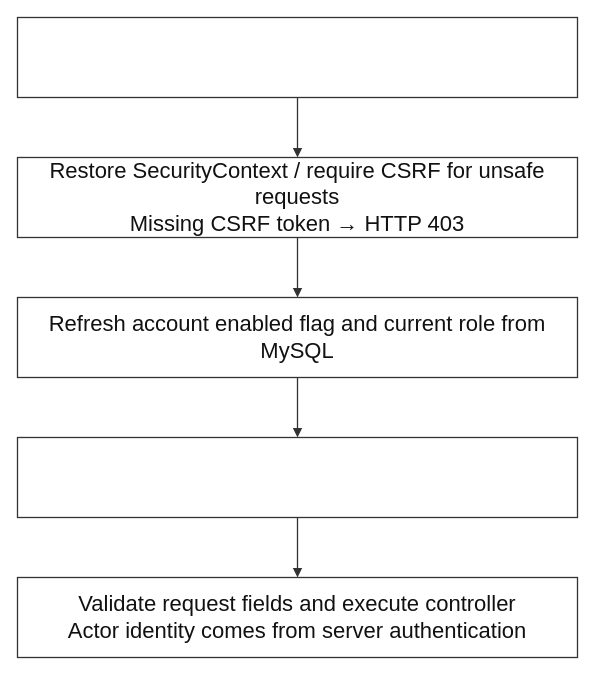
Image size: 596x676. Some labels were removed from this diagram. Each missing label, with the centre of its shape:
Apply method / endpoint role rules Anonymous → 401; disallowed role → 403: the point at 297,477
Request with host-only session cookie: the point at 297,57
